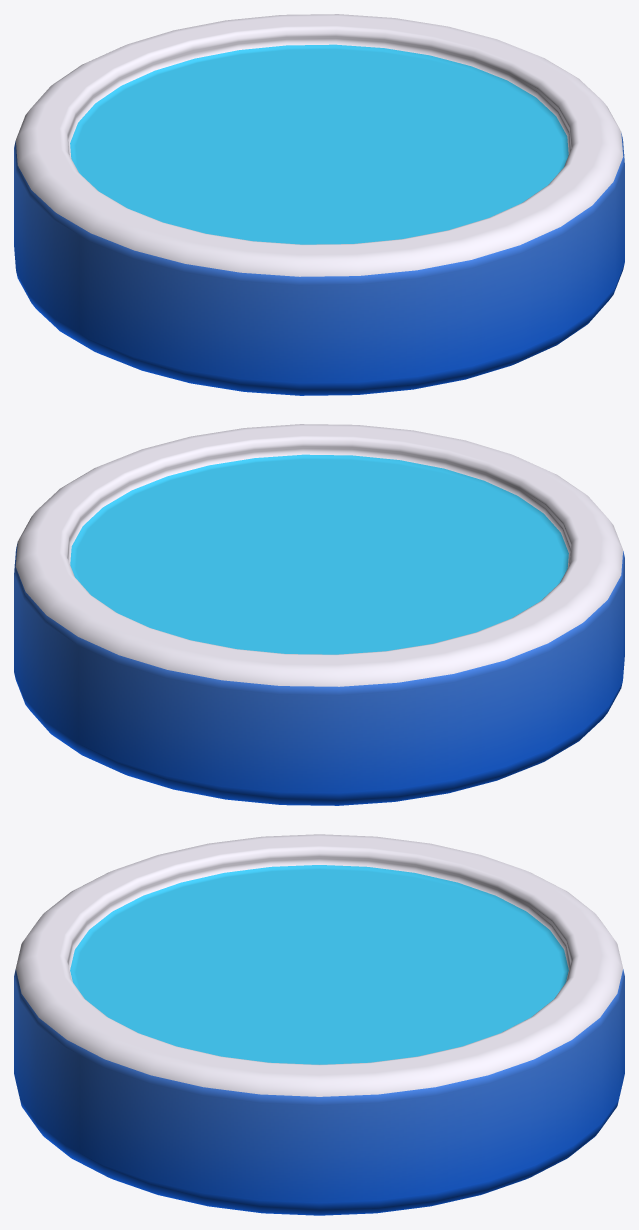
File: round_platform_4.glb
3 renders of one model, top to bottom at view 1: azimuth 30°, elevation 25°; view 2: azimuth 150°, elevation 25°; view 3: azimuth 270°, elevation 25°, orthographic.
Parts seen in each view (by area): view 1: round_platform_4; view 2: round_platform_4; view 3: round_platform_4.
Boxes of the visible parts, x1,y1,x2,y2 form: round_platform_4: (14,14,624,395); round_platform_4: (14,424,624,805); round_platform_4: (14,834,624,1215).
Bounding box in the file's own units: 4 × 1 × 4.
Materials: 1 (1 with a texture image).
